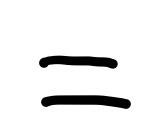eqv: (40, 56, 131, 109)
